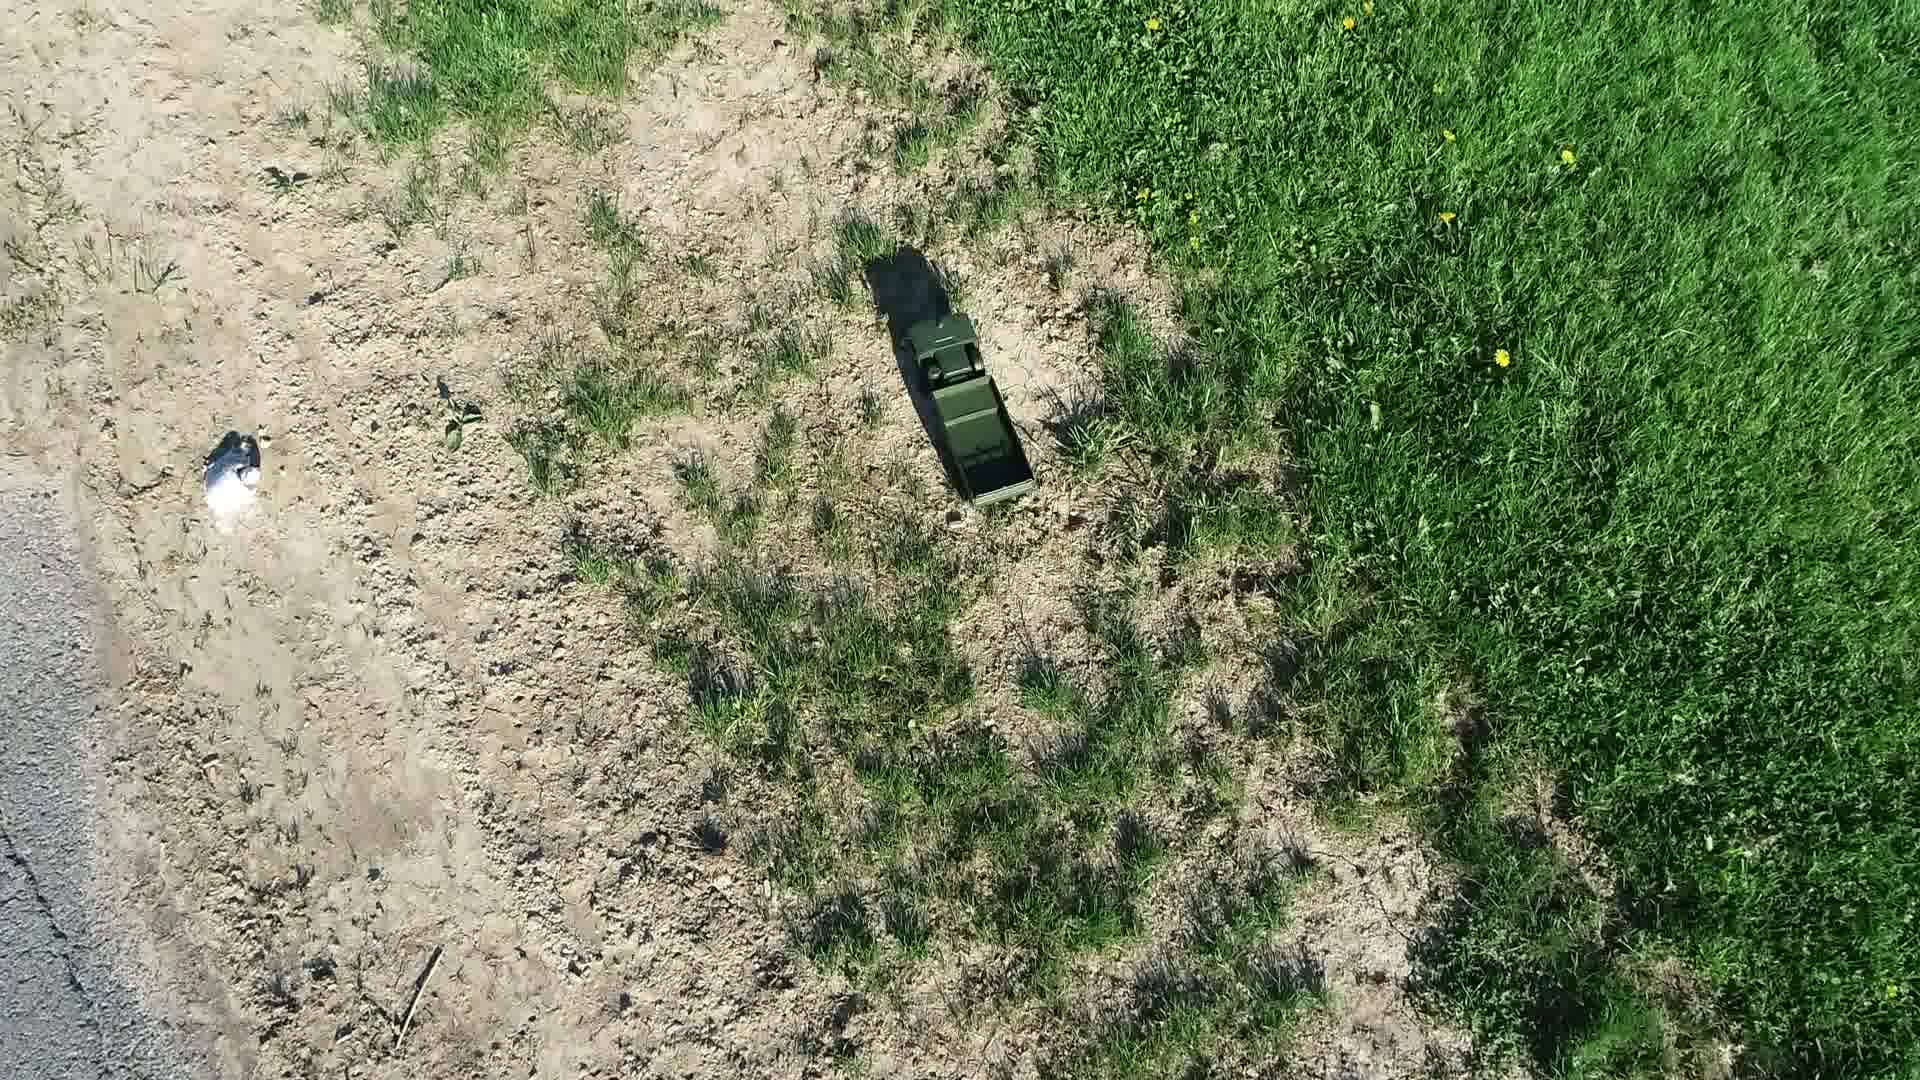transporter9: (890, 303, 1051, 529)
